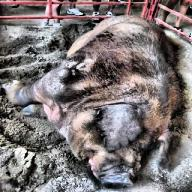boar: (1, 13, 186, 188)
